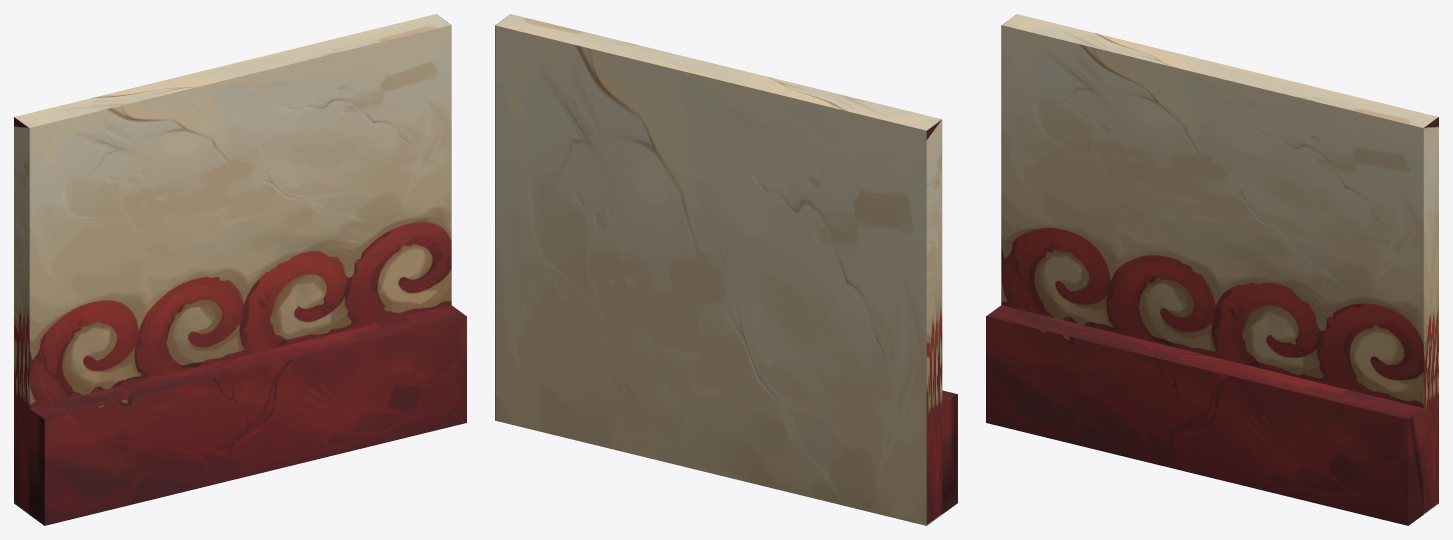
Rendered from Modulaire_MurGrand.fbx.
The picture shows the model from 3 angles, left to right: view 1: azimuth 30°, elevation 25°; view 2: azimuth 150°, elevation 25°; view 3: azimuth 330°, elevation 25°; orthographic projection. The views are drawn at different scales.
Parts seen in each view (by area): view 1: Box002; view 2: Box002; view 3: Box002.
Part boxes in pixels (x1,y1,x2,y2): Box002: (14,14,466,525); Box002: (495,14,957,525); Box002: (986,14,1438,525).
Size of the model in its own units: 2 by 1.75 by 0.25.
